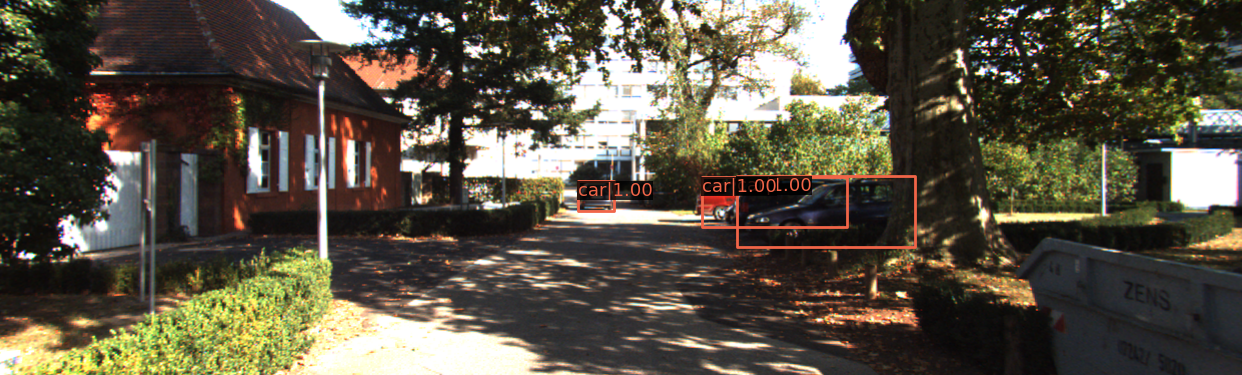car: (740, 177, 950, 250), (729, 179, 904, 240), (723, 178, 864, 233), (697, 180, 823, 223), (579, 183, 613, 211)
